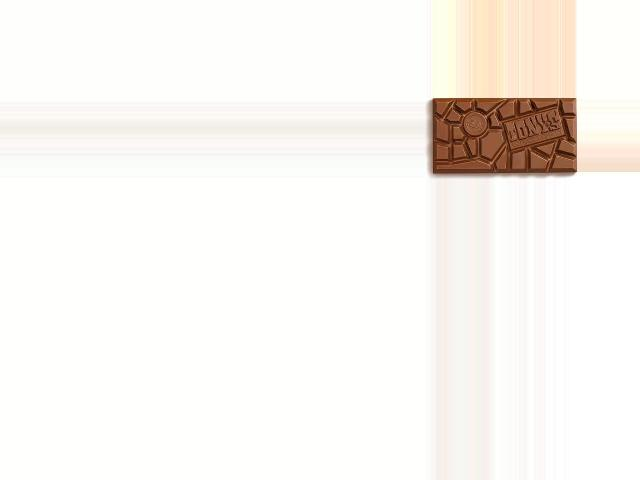chocolate: (431, 98, 577, 177)
